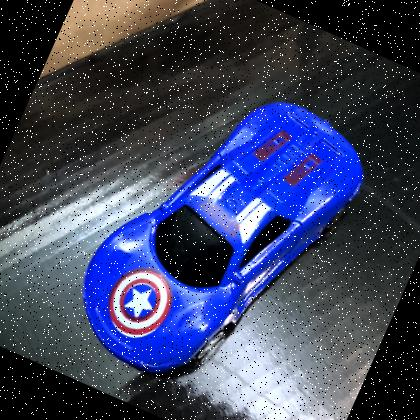Car: (81, 102, 363, 377)
